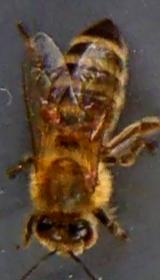varroa_mite: (37, 99, 65, 132)
